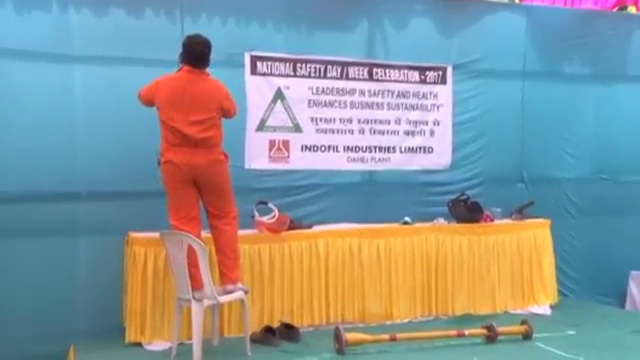helmet_off: (178, 31, 213, 71)
person: (136, 31, 250, 297)
